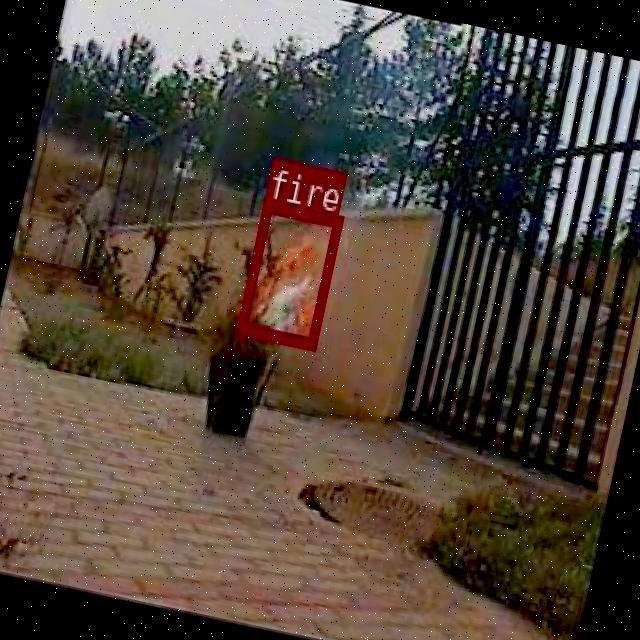fire: (235, 198, 342, 348)
